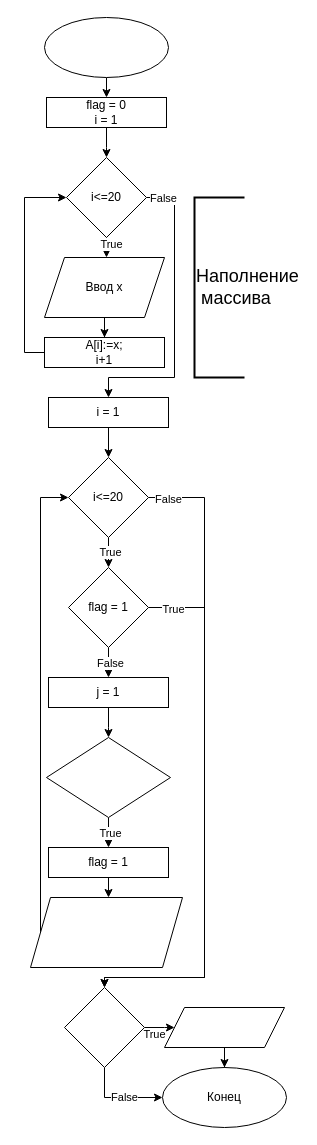
Image size: 317x1145. Some labels were removed from this diagram. The shapes that lost their labels are listed below. From the top down, each one's centre as x and y in pixels, then its label:
At [106,47]: "Начало".
At [108,777]: "A[i]+A[j]>=A[i]*A[j]".
At [106,932]: "'Произведение ',A[i],' и ',A[j],' не привышает их сумму'".
At [104,1027]: "flag = 0".
At [224,1027]: "'Нет элементов удовлетворяющих условию'".
